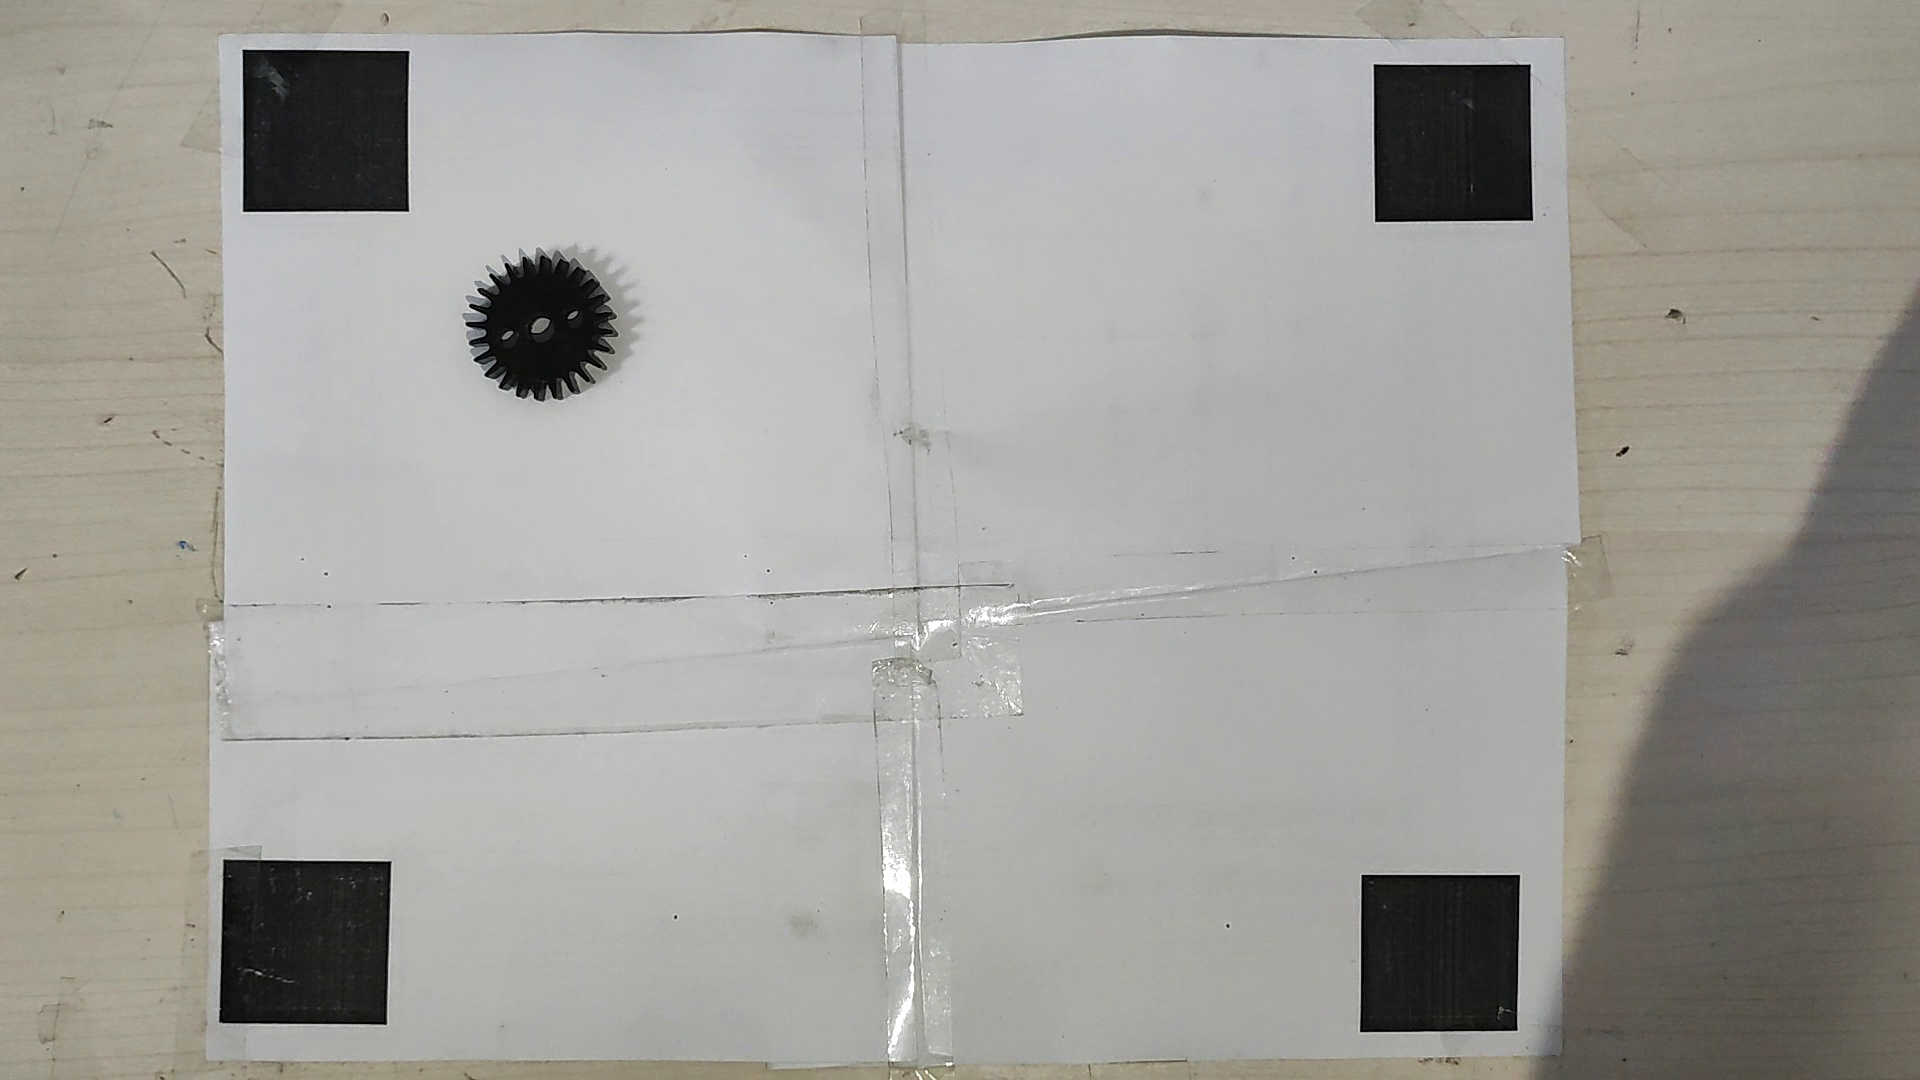Gear: (462, 252, 621, 404)
